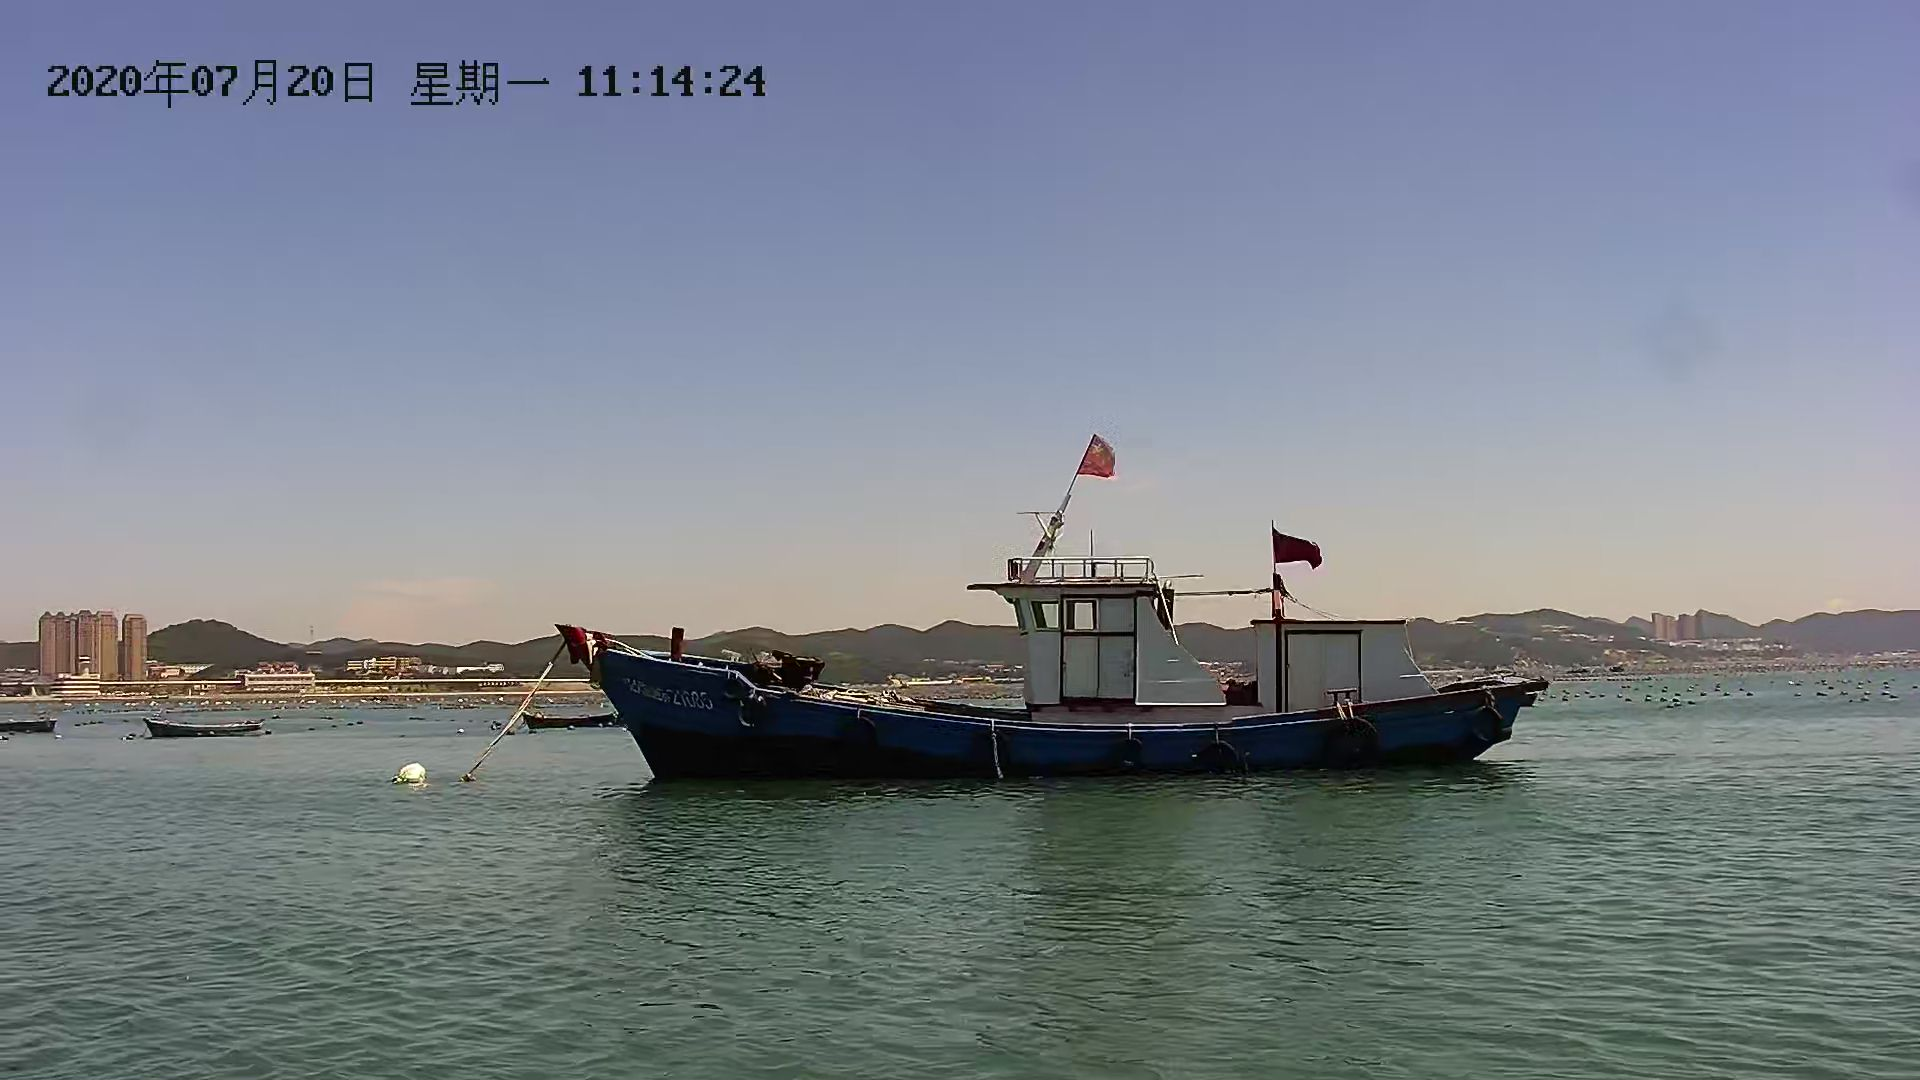ball: (392, 767, 440, 787)
boat: (572, 550, 1569, 775), (514, 708, 622, 731), (145, 720, 270, 738)
